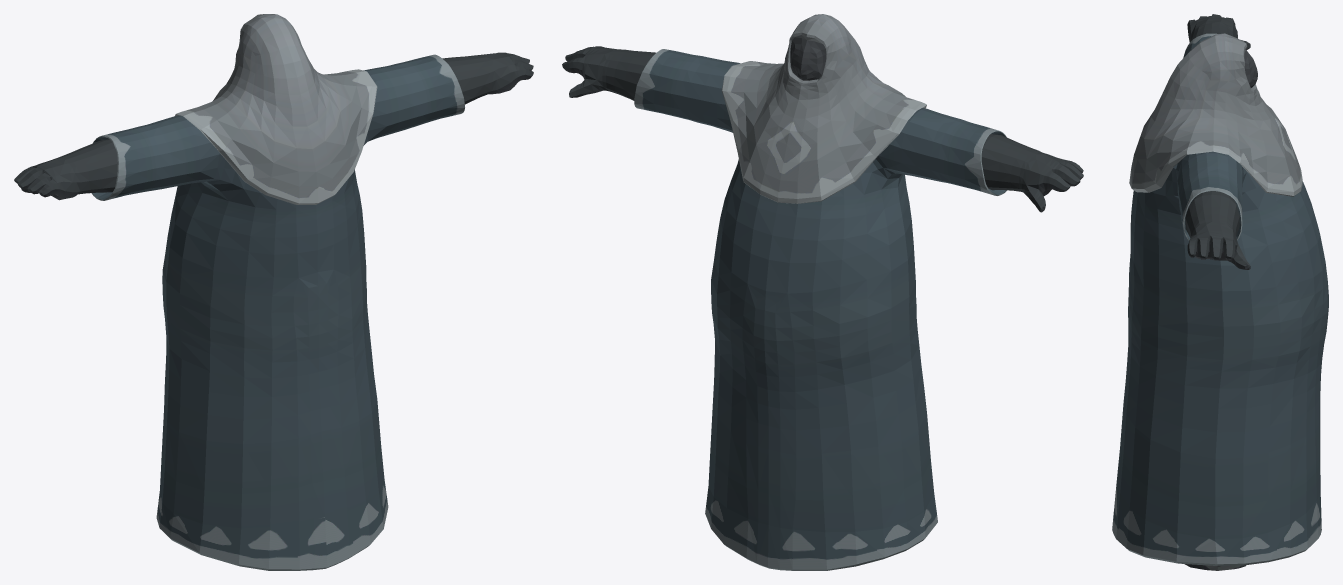
The model's file is CharSkyNPC_Body_FatLaborDress.glb.
The picture shows the model from 3 angles, left to right: view 1: azimuth 30°, elevation 25°; view 2: azimuth 150°, elevation 25°; view 3: azimuth 270°, elevation 25°; orthographic projection. The views are drawn at different scales.
Visible parts, largest first — view 1: CharSkyNPC_Body_FatLaborDress; view 2: CharSkyNPC_Body_FatLaborDress; view 3: CharSkyNPC_Body_FatLaborDress.
Boxes of the visible parts, left/top/right/bottom form: CharSkyNPC_Body_FatLaborDress: left=14, top=14, right=533, bottom=570; CharSkyNPC_Body_FatLaborDress: left=562, top=14, right=1083, bottom=570; CharSkyNPC_Body_FatLaborDress: left=1112, top=14, right=1328, bottom=570.
Size of the model in its own units: 14.05 by 13.88 by 5.33.
Materials: 1 (1 with a texture image).
